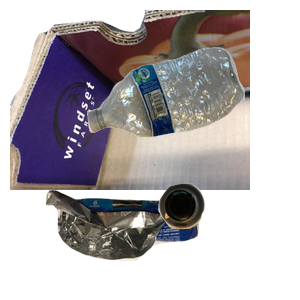cardboard: (10, 10, 250, 190)
glass: (156, 181, 300, 300)
plastic: (85, 45, 300, 175)
trash: (43, 187, 234, 300)
